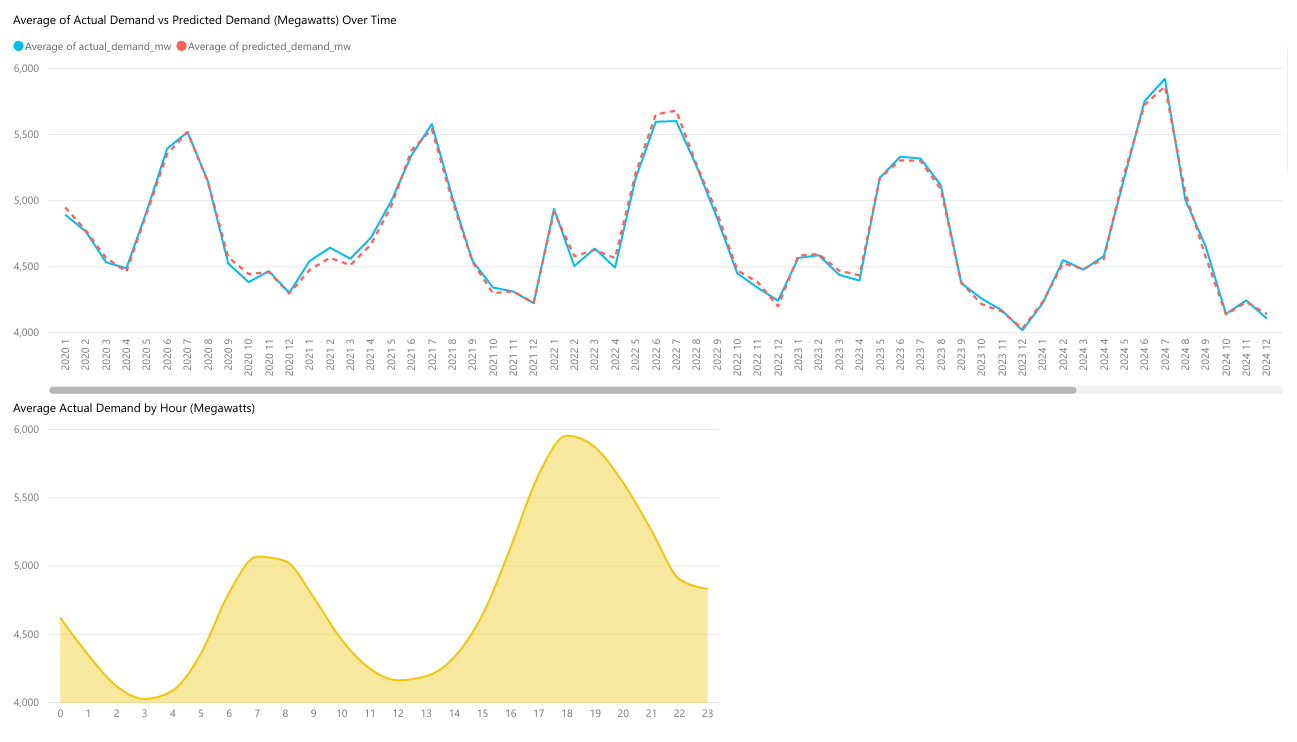

The page's visual inventory and layout, read from the dashboard file:
{"tool":"powerbi","page":{"name":"Home","canvas":[1280,720],"ordinal":0},"visuals":[{"type":"lineChart","title":"Average of Actual Demand vs Predicted Demand (Megawatts) Over Time","fields":{"Y":["Avg(gold_demand_forecast_pbi.actual_demand_mw)","Avg(gold_demand_forecast_pbi.predicted_demand_mw)"],"Category":["gold_demand_forecast_pbi.date.year","gold_demand_forecast_pbi.date.month","gold_demand_forecast_pbi.date.day"]},"box":[0,0,1280,388.1],"z":0},{"type":"areaChart","title":"Average Actual Demand by Hour (Megawatts)","fields":{"Category":["gold_demand_forecast_pbi.hour"],"Y":["Avg(gold_demand_forecast_pbi.actual_demand_mw)"]},"box":[0,388.3,716.3,332.1],"z":1000}]}

Visuals, with their boxes in screenshot pixels (x1, y1, x2, y2), scaled from the page's 1280x720 canvas onto the 1297x742 screenshot:
"Average of Actual Demand vs Predicted Demand (Megawatts) Over Time" lineChart: locate(0, 0, 1296, 400)
"Average Actual Demand by Hour (Megawatts)" areaChart: locate(0, 400, 726, 741)
